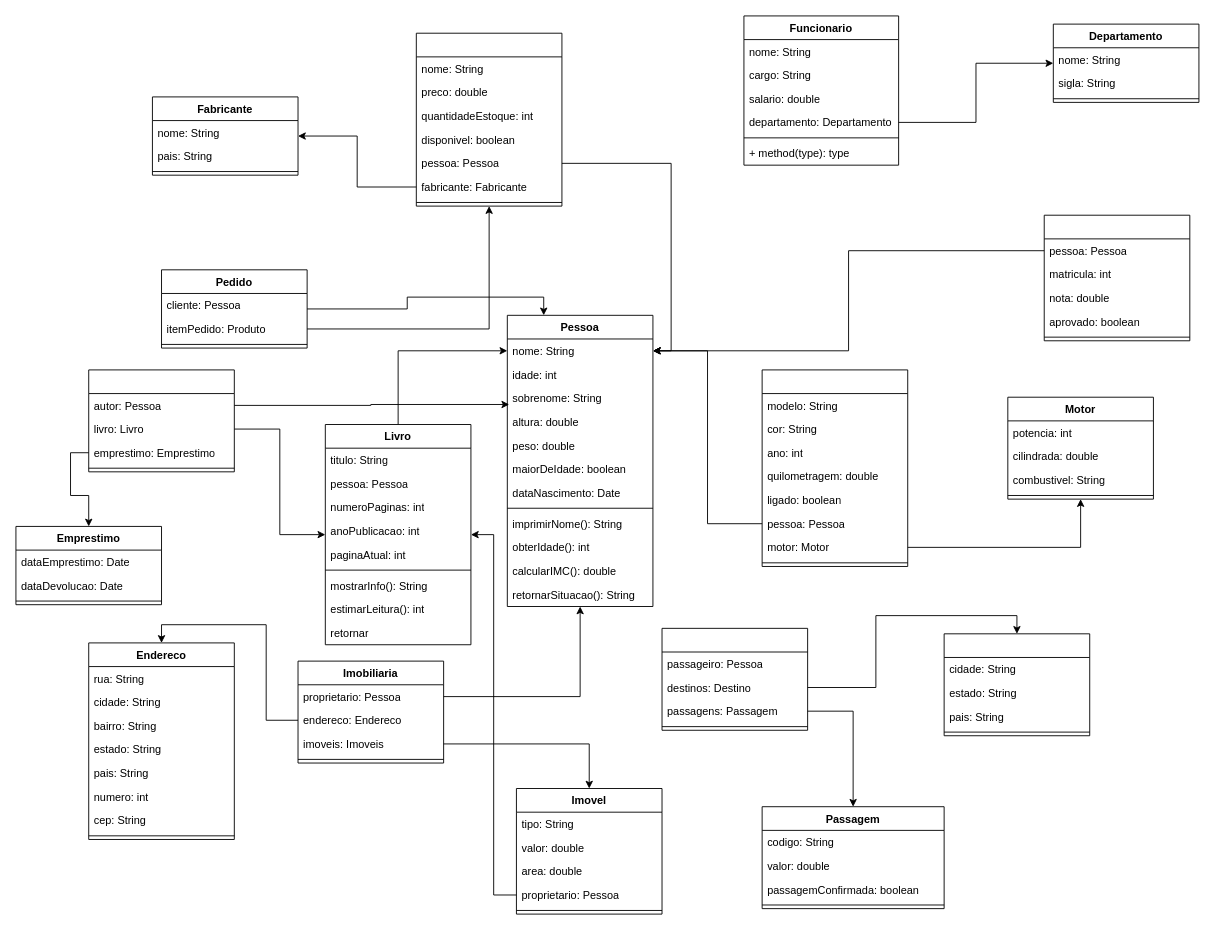
This 1215x930 diagram has some shape labels left out. The box of each missing label's shape, as (x1, y1, x2, y2) in pixels:
Aluno: (1043, 214, 1190, 341)
Biblioteca: (88, 369, 234, 472)
Carro: (761, 369, 908, 566)
Destino: (943, 633, 1090, 736)
Produto: (415, 32, 562, 206)
Viagem: (661, 627, 808, 730)
